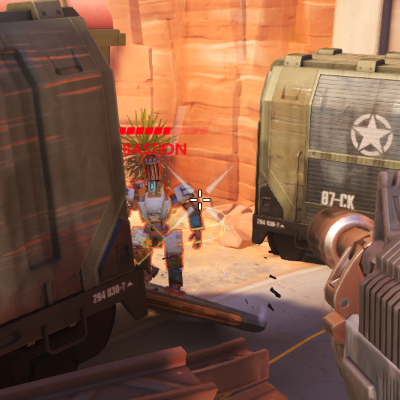hpbar: (119, 127, 210, 135)
